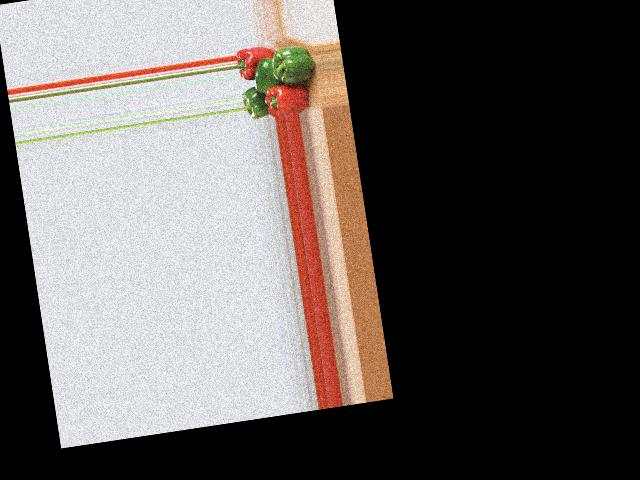bell_pepper: (264, 79, 314, 117)
